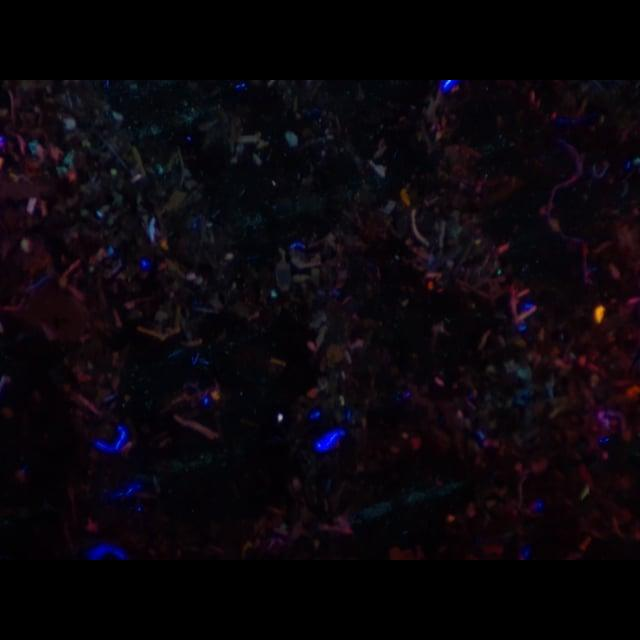Fibre: (284, 131, 298, 147)
